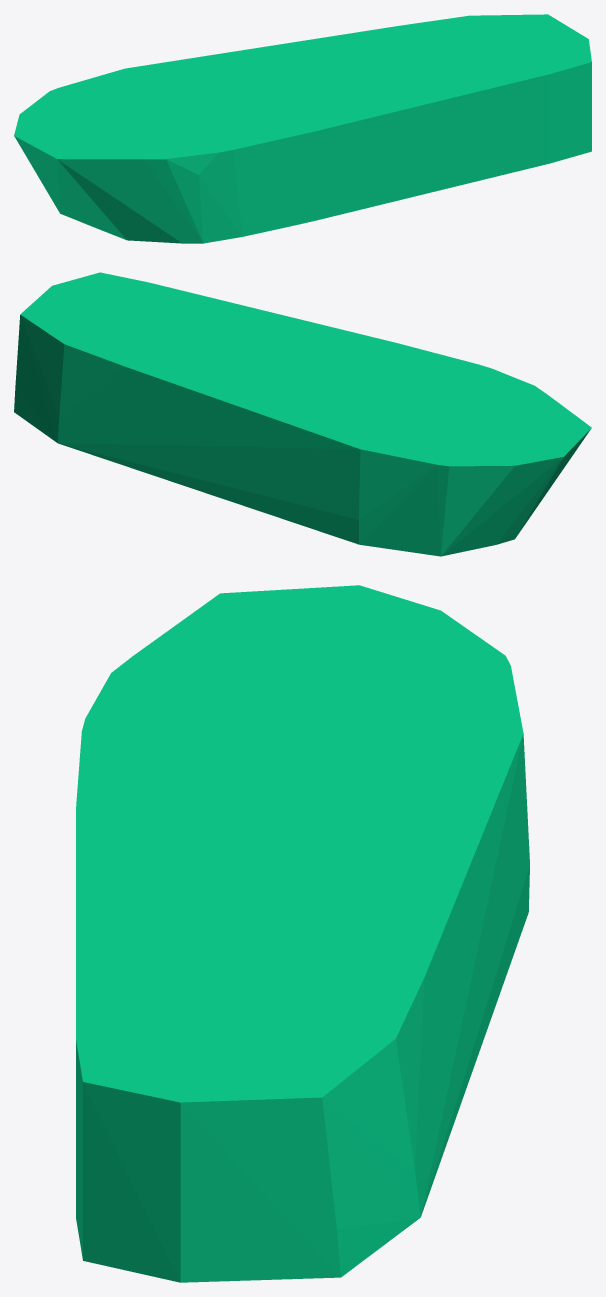
The picture shows the model from 3 angles, top to bottom: view 1: azimuth 30°, elevation 25°; view 2: azimuth 150°, elevation 25°; view 3: azimuth 270°, elevation 25°; orthographic projection. The views are drawn at different scales.
Size of the model in its own units: 5.99 by 0.9642 by 2.22.
